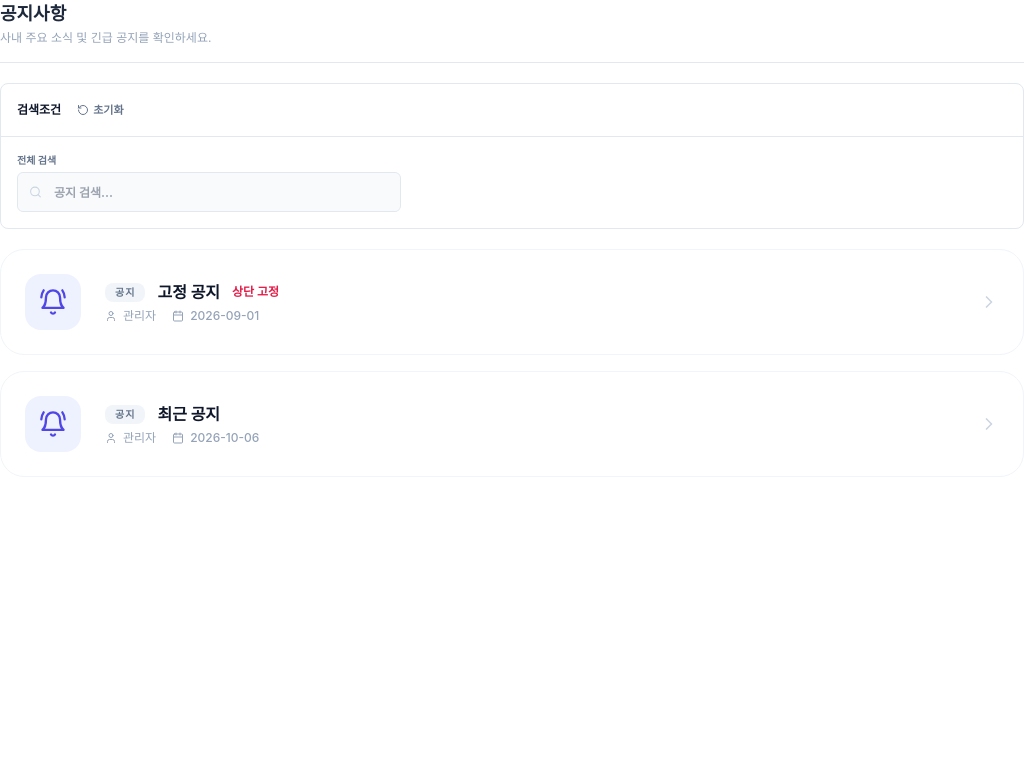
일반 직원은 공지를 읽되 관리자 복구 조회와 작성 버튼을 요청하지 않는다
Click the heading "고정 공지" at (189, 292), box top-left (157, 280), bottom-right (220, 304)
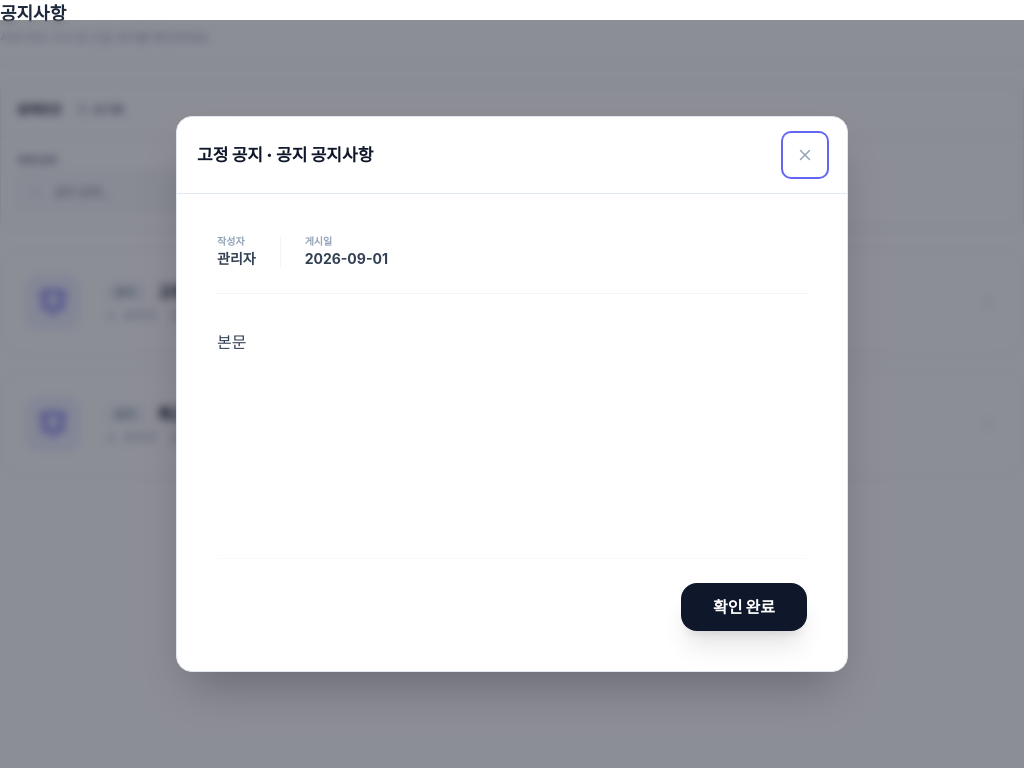
Now the dialog shows "본문", box top-left (217, 332), bottom-right (246, 352)
